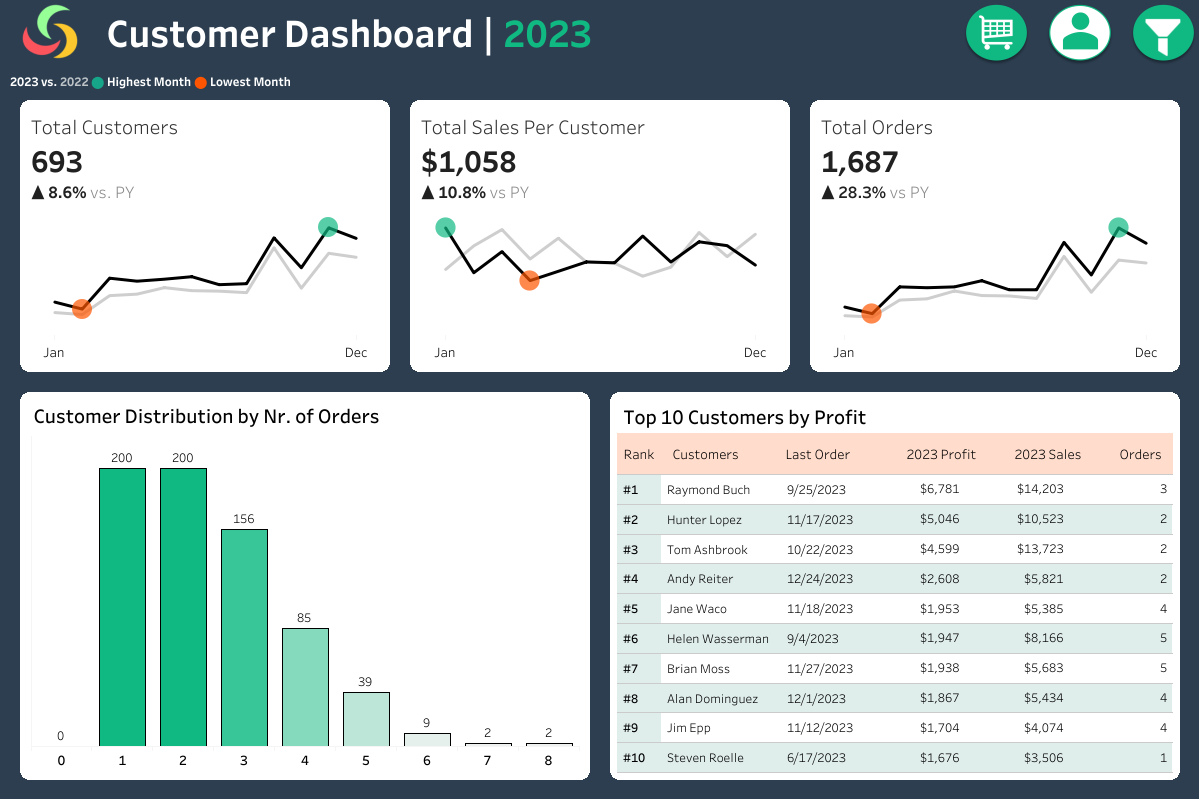

Layout of this report page (visuals, bound fields, positions):
{"tool":"tableau","page":{"name":"Customer Dashboard","canvas":[1200,800],"ordinal":0},"visuals":[{"type":"text","box":[0,0,1200,58]},{"type":"dashboard-object","box":[952,1,84,70]},{"type":"dashboard-object","box":[1036,1,83,70]},{"type":"dashboard-object","box":[1119,1,83,70]},{"type":"blank","box":[965,10,220,93]},{"type":"worksheet","title":"Legend KPI","mark":"Automatic","box":[0,63,1200,37]},{"type":"worksheet","title":"KPI Total Customers","mark":"Line","rows":["Calculation_0523694567714819"],"cols":["Order Date"],"box":[0,100,400,282]},{"type":"worksheet","title":"KPI Sales per Customers ","mark":"Automatic","rows":["Calculation_0523694585638929"],"cols":["Order Date"],"box":[400,100,400,282]},{"type":"worksheet","title":"KPI Total Orders","mark":"Automatic","rows":["Calculation_0523694589460501"],"cols":["Order Date"],"box":[800,100,400,282]},{"type":"text","box":[965,103,220,72]},{"type":"parameter","param":"[Parameters].[Parameter 0511872648384516]","box":[965,175,220,91]},{"type":"text","box":[965,266,220,50]},{"type":"filter","title":"KPI Sales per Customers ","param":"[federated.0gc1kzu15zl2kw0zrg6ie1s934xx].[none:Category:nk]","box":[965,316,220,52]},{"type":"filter","title":"KPI Sales per Customers ","param":"[federated.0gc1kzu15zl2kw0zrg6ie1s934xx].[none:Sub-Category:nk]","box":[965,368,220,52]},{"type":"text","box":[617,399,566,34]},{"type":"text","box":[18,400,564,33]},{"type":"blank","box":[965,420,220,43]},{"type":"worksheet","title":"Bar Customer Distribution","mark":"Bar","rows":["Calculation_0523694562783232"],"cols":["Calculation_0523694596972568"],"box":[18,433,564,349]},{"type":"text","box":[617,433,49,41]},{"type":"text","box":[666,433,113,41]},{"type":"text","box":[779,433,121,41]},{"type":"text","box":[900,433,108,41]},{"type":"text","box":[1008,433,105,41]},{"type":"text","box":[1113,433,70,41]},{"type":"text","box":[965,463,220,37]},{"type":"worksheet","title":"Table Top Customers","mark":"Text","rows":["Calculation_0523694601633818","Customer Name","Order Date"],"box":[617,474,566,309]},{"type":"filter","title":"KPI Sales per Customers ","param":"[federated.0gc1kzu15zl2kw0zrg6ie1s934xx].[none:Region:nk]","box":[965,500,220,52]},{"type":"filter","title":"KPI Sales per Customers ","param":"[federated.0gc1kzu15zl2kw0zrg6ie1s934xx].[none:State:nk]","box":[965,552,220,52]},{"type":"filter","title":"KPI Sales per Customers ","param":"[federated.0gc1kzu15zl2kw0zrg6ie1s934xx].[none:City:nk]","box":[965,604,220,52]}]}

Visuals, with their boxes in screenshot pixels (x1, y1, x2, y2), scaled from the page's 1200x800 canvas onto the 1199x799 screenshot:
text: box=[0, 0, 1198, 58]
dashboard-object: box=[951, 1, 1035, 71]
dashboard-object: box=[1035, 1, 1118, 71]
dashboard-object: box=[1118, 1, 1198, 71]
blank: box=[964, 10, 1184, 103]
"Legend KPI" worksheet: box=[0, 63, 1198, 100]
"KPI Total Customers" worksheet (Line marks): box=[0, 100, 400, 382]
"KPI Sales per Customers " worksheet: box=[400, 100, 799, 382]
"KPI Total Orders" worksheet: box=[799, 100, 1198, 382]
text: box=[964, 103, 1184, 175]
parameter: box=[964, 175, 1184, 266]
text: box=[964, 266, 1184, 316]
"KPI Sales per Customers " filter: box=[964, 316, 1184, 368]
"KPI Sales per Customers " filter: box=[964, 368, 1184, 419]
text: box=[616, 399, 1182, 432]
text: box=[18, 400, 582, 432]
blank: box=[964, 419, 1184, 462]
"Bar Customer Distribution" worksheet (Bar marks): box=[18, 432, 582, 781]
text: box=[616, 432, 665, 473]
text: box=[665, 432, 778, 473]
text: box=[778, 432, 899, 473]
text: box=[899, 432, 1007, 473]
text: box=[1007, 432, 1112, 473]
text: box=[1112, 432, 1182, 473]
text: box=[964, 462, 1184, 499]
"Table Top Customers" worksheet (Text marks): box=[616, 473, 1182, 782]
"KPI Sales per Customers " filter: box=[964, 499, 1184, 551]
"KPI Sales per Customers " filter: box=[964, 551, 1184, 603]
"KPI Sales per Customers " filter: box=[964, 603, 1184, 655]
